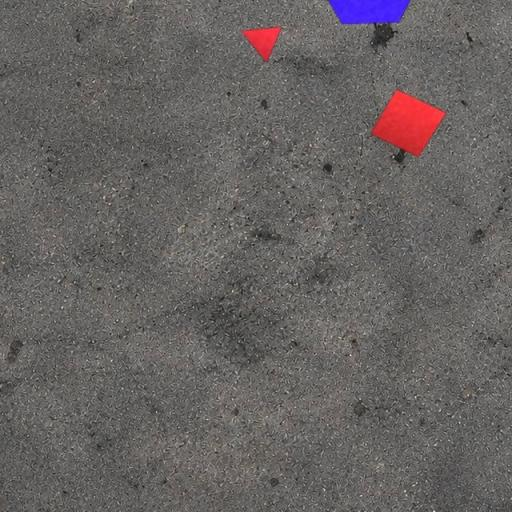RED_SQUARE: (370, 88, 447, 158)
